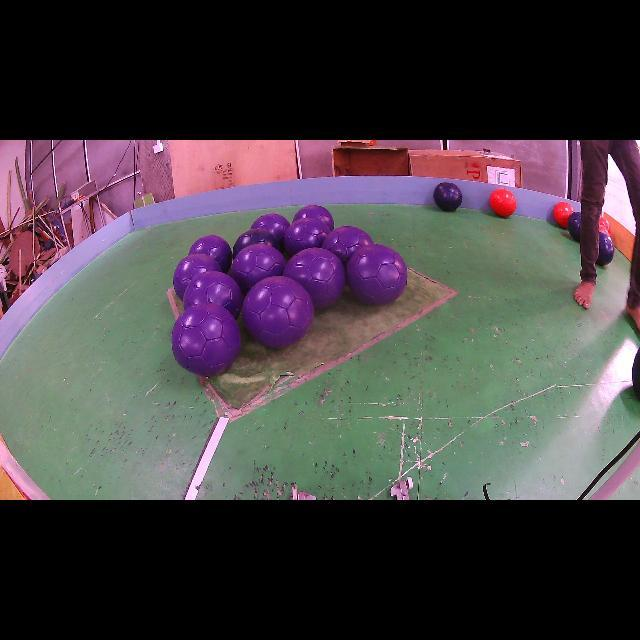B: (232, 229, 279, 259), (434, 182, 462, 211), (596, 231, 615, 266), (568, 211, 581, 241)
P: (171, 302, 240, 377), (242, 277, 309, 346), (282, 248, 345, 309), (346, 244, 408, 305), (182, 271, 242, 319), (230, 244, 286, 292), (172, 254, 221, 299), (322, 226, 372, 268), (284, 218, 330, 255), (189, 235, 232, 272), (251, 212, 290, 246), (292, 205, 334, 231)
R: (490, 188, 516, 216), (554, 201, 575, 228), (599, 216, 610, 231), (599, 225, 609, 235)
